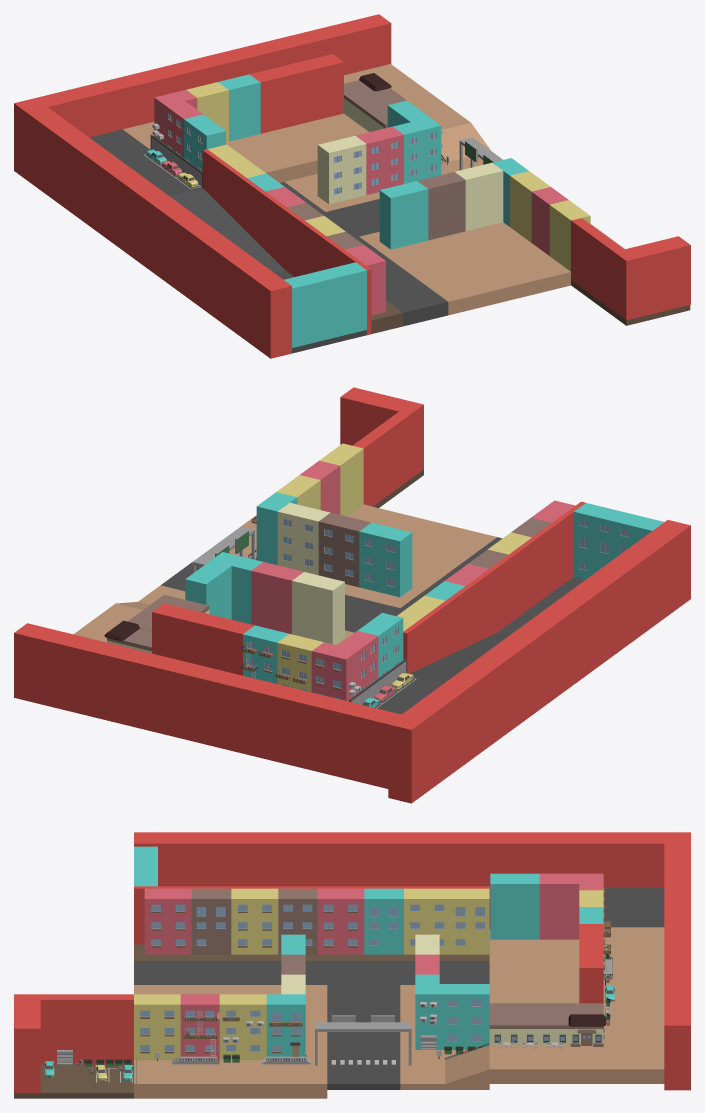
The picture shows the model from 3 angles, top to bottom: view 1: azimuth 30°, elevation 25°; view 2: azimuth 150°, elevation 25°; view 3: azimuth 270°, elevation 25°; orthographic projection. The views are drawn at different scales.
Visible parts, largest first — view 1: Wall_6, Wall_7, Ground_1, Slope, Wall_3, Wall_2, Apartment_23, Wall_5, Parking_Lot, Apartment_Row, Wall_1, Apartment_06 (+23 smaller); view 2: Wall_7, Wall_6, Wall_3, Ground_1, Wall_5, Apartment_23, Parking_Lot, Wall_1, Apartment_06, Wall_2, Apartment_Row, Apartment_12 (+20 smaller); view 3: Wall_6, Apartment_Row, Slope, Ground_1, Main_Road_1, Main_Road_2, Wall_7, Wall_1, Apartment_22, Apartment_15, Base_Cafe_2, Apartment_16 (+23 smaller).
Part boxes in pixels (box(x1,y1,x2,y2)): Wall_6: box(14, 98, 291, 358); Wall_7: box(35, 14, 391, 137); Ground_1: box(359, 222, 624, 315); Slope: box(123, 64, 490, 186); Wall_3: box(202, 149, 371, 335); Wall_2: box(614, 236, 690, 320); Apartment_23: box(284, 262, 366, 347); Wall_5: box(250, 54, 343, 133); Parking_Lot: box(89, 129, 366, 353); Apartment_Row: box(208, 144, 385, 315); Wall_1: box(571, 218, 624, 310); Apartment_06: box(379, 181, 428, 249); Wall_7: box(14, 623, 401, 788); Wall_6: box(388, 520, 690, 803); Wall_3: box(403, 501, 585, 673); Ground_1: box(229, 504, 496, 607); Wall_5: box(152, 603, 254, 675); Apartment_23: box(574, 503, 663, 579); Parking_Lot: box(374, 576, 585, 714); Wall_1: box(352, 411, 410, 506); Apartment_06: box(359, 522, 412, 597); Wall_2: box(340, 387, 423, 478); Apartment_Row: box(397, 500, 575, 631); Apartment_12: box(292, 572, 344, 644); Wall_6: box(134, 832, 690, 887); Apartment_Row: box(144, 888, 489, 954); Slope: box(445, 927, 664, 1083); Ground_1: box(134, 985, 327, 1098); Main_Road_1: box(134, 961, 489, 984); Main_Road_2: box(327, 985, 400, 1089); Wall_7: box(664, 843, 690, 1090); Wall_1: box(40, 994, 133, 1064); Apartment_22: box(490, 873, 539, 939); Apartment_15: box(439, 984, 489, 1049); Base_Cafe_2: box(489, 1003, 570, 1045); Apartment_16: box(134, 994, 180, 1060).
Size of the model in its own units: 56500 by 11600 by 83600.
